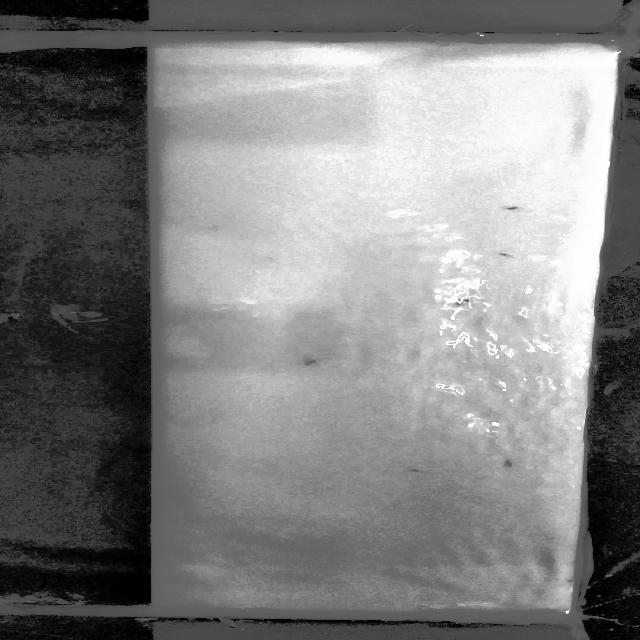shrimp: (494, 250, 521, 266), (505, 202, 529, 215), (406, 464, 436, 474), (300, 356, 327, 366), (499, 458, 519, 468), (450, 299, 474, 306)
